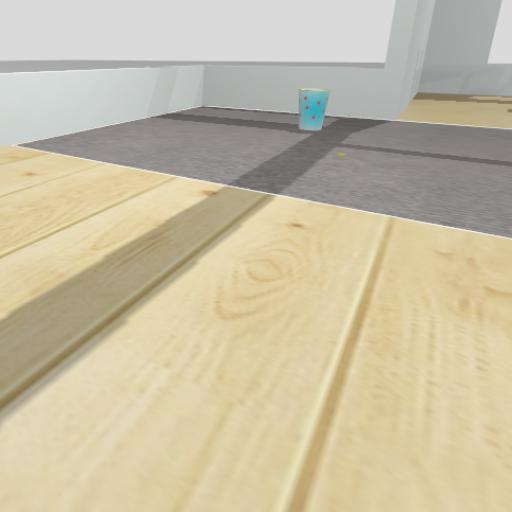Trash: (290, 68, 343, 166)
